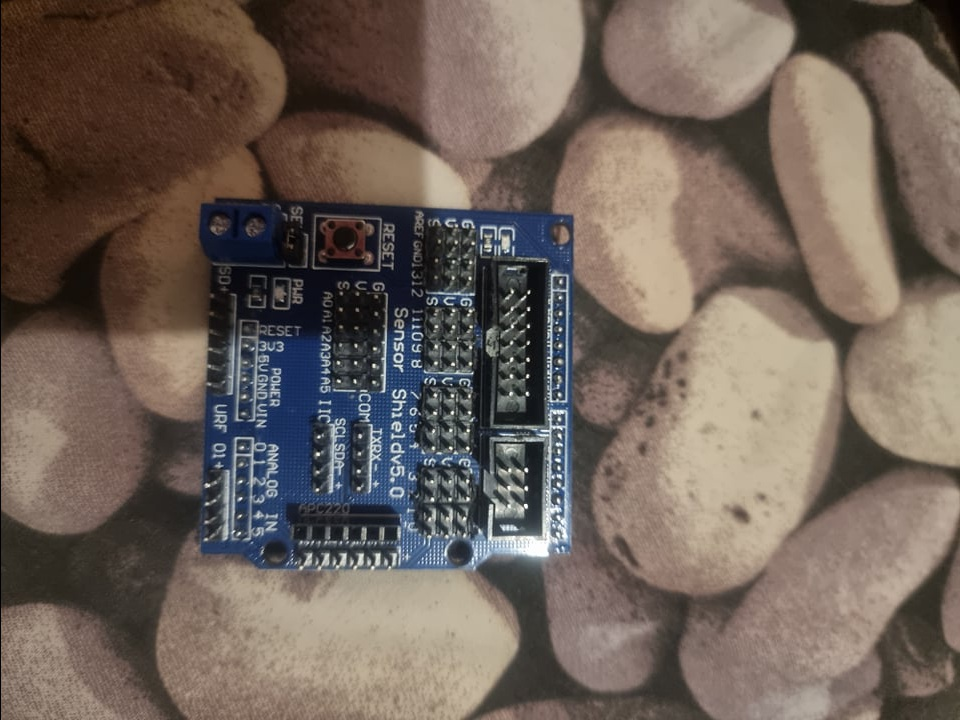5V EXPANSION: (187, 191, 573, 574)
